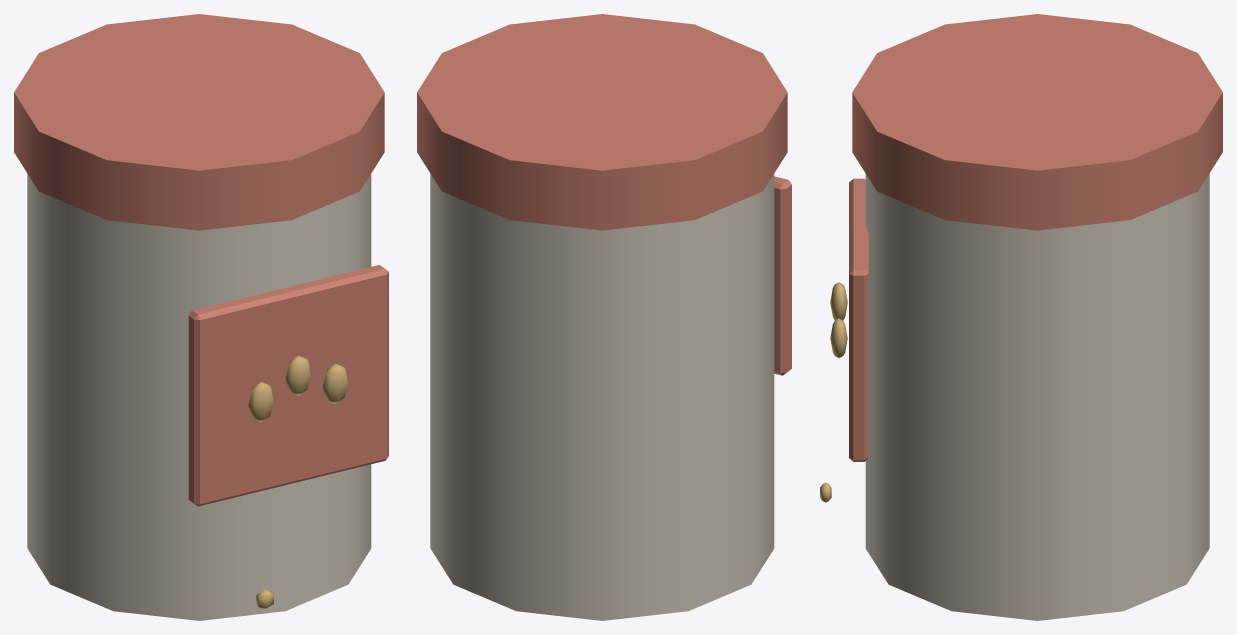
The picture shows the model from 3 angles, left to right: view 1: azimuth 30°, elevation 25°; view 2: azimuth 150°, elevation 25°; view 3: azimuth 270°, elevation 25°; orthographic projection.
Visible parts, largest first — view 1: g_s33; view 2: g_s33; view 3: g_s33.
Part boxes in pixels (box(x1,y1,x2,y2)): g_s33: box(14, 14, 388, 620); g_s33: box(417, 14, 791, 620); g_s33: box(820, 14, 1222, 620).
Size of the model in its own units: 0.28 by 0.38 by 0.3043.
